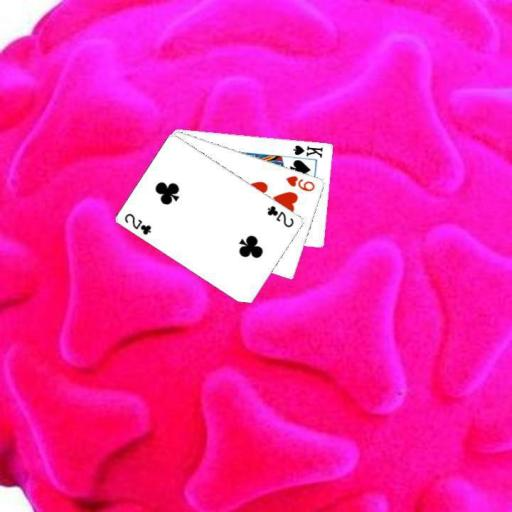card-corner: (264, 202, 296, 229), (121, 210, 153, 236), (283, 172, 316, 193), (290, 142, 325, 158)
